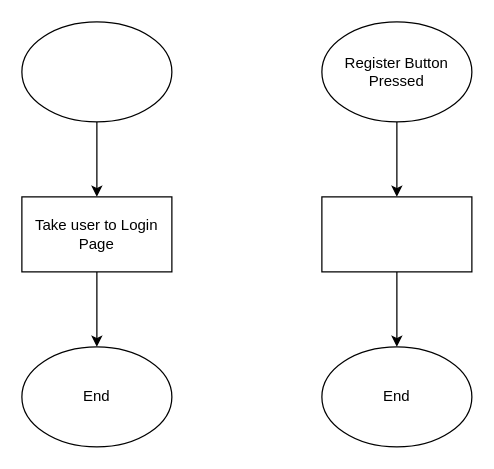
Image size: 494x469. Some labels were removed from this diagram. The centre of each missing label's shape, as x and y in pixels:
Login Button Pressed: point (96, 71)
Take user to Register Page: point (396, 234)
